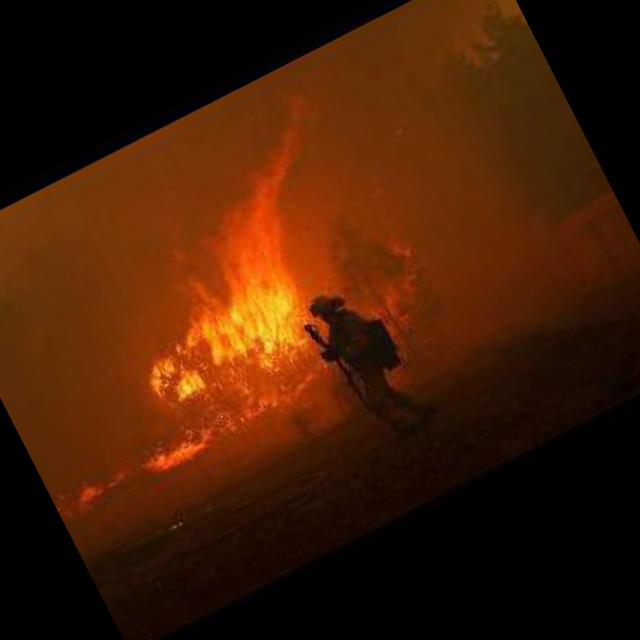fire: (62, 105, 380, 422), (48, 355, 335, 528)
